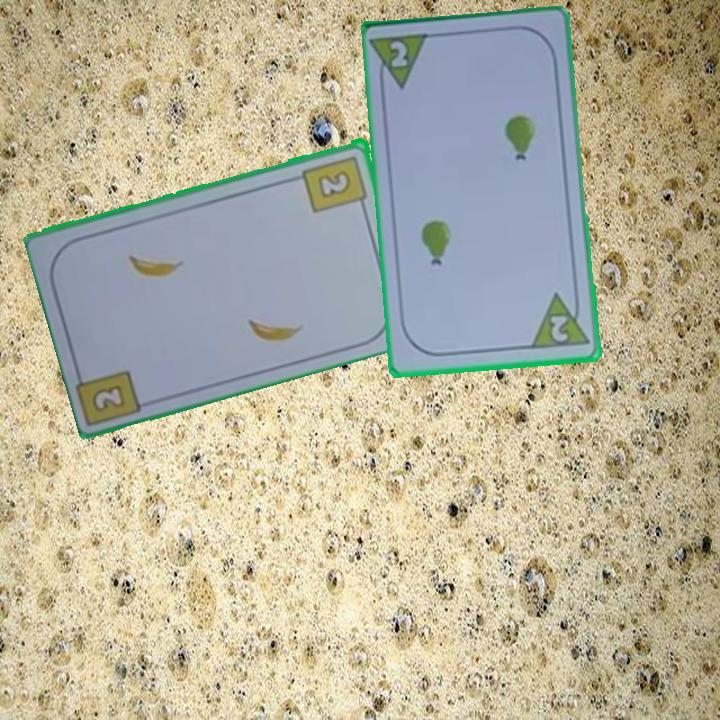2b: (299, 151, 371, 216), (88, 380, 129, 415)
2p: (528, 289, 593, 353), (386, 37, 411, 70)
